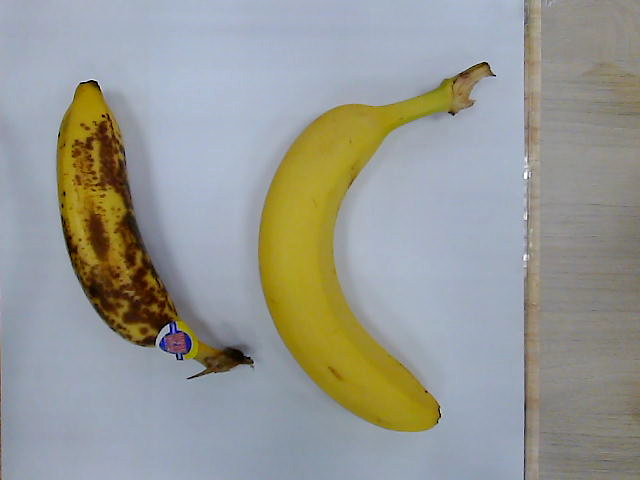fresh_banana: (257, 62, 492, 433)
rotten_banana: (56, 79, 250, 377)
